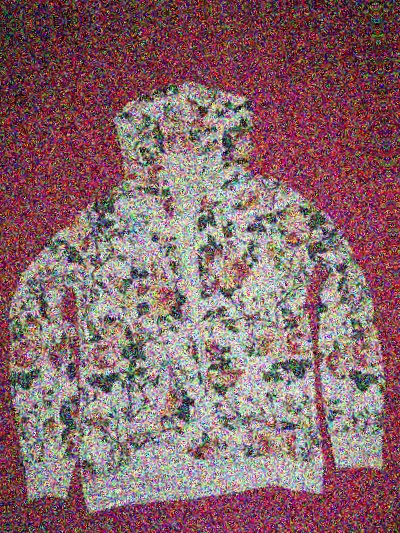Hoodie: (0, 55, 398, 520), (395, 24, 400, 489)
